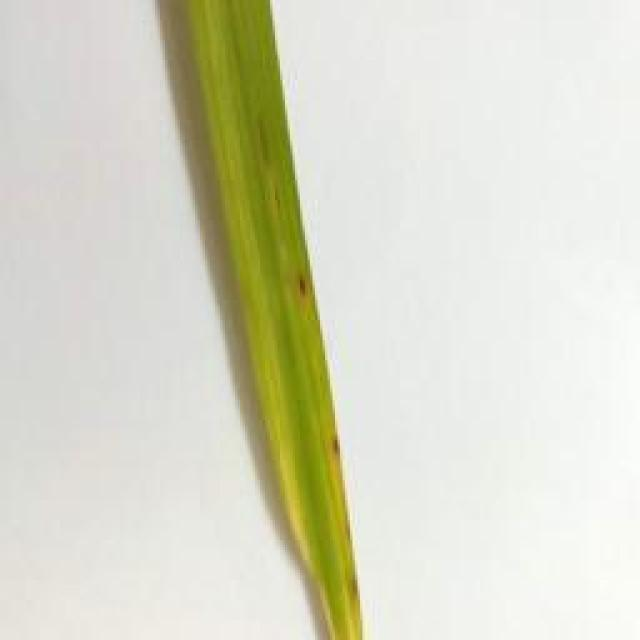Bacterial_Blight: (238, 429, 344, 640)
Brown_Spot: (276, 254, 330, 329), (312, 412, 354, 479)
